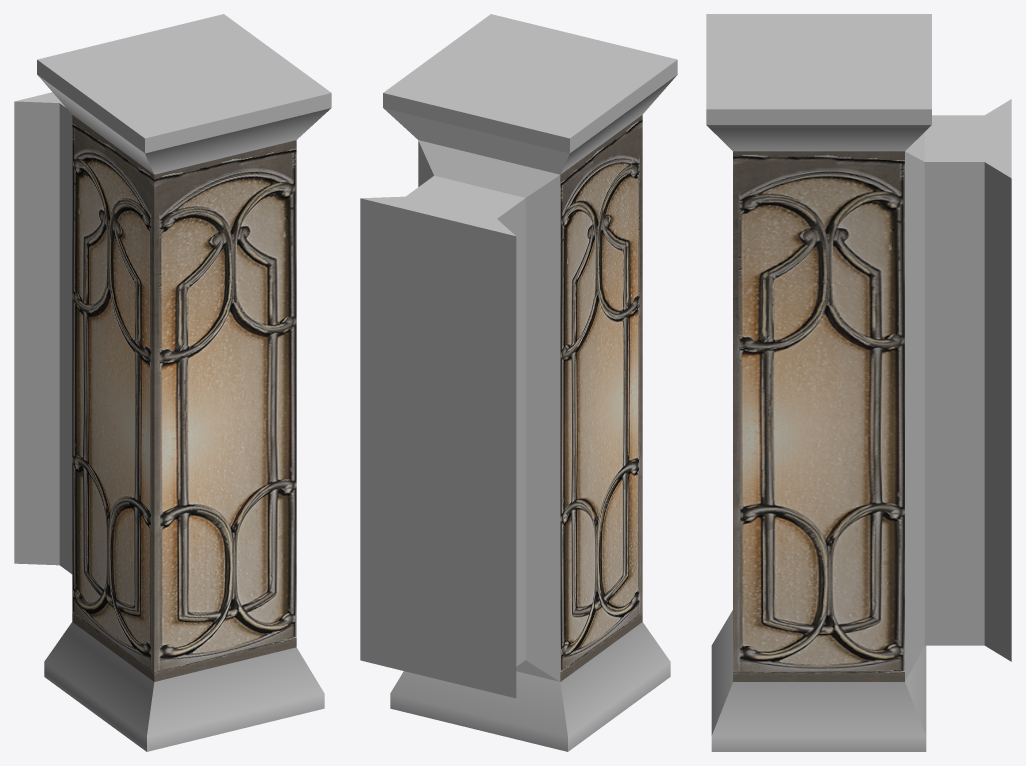
File: wall_lantern_model.fbx
3 renders of one model, left to right at view 1: azimuth 30°, elevation 25°; view 2: azimuth 150°, elevation 25°; view 3: azimuth 270°, elevation 25°, orthographic. The views are drawn at different scales.
Visible parts, largest first — view 1: pCube2; view 2: pCube2; view 3: pCube2.
Part boxes in pixels (x1,y1,x2,y2): pCube2: (14,14,331,751); pCube2: (360,14,677,751); pCube2: (706,14,1011,751).
Bounding box in the file's own units: 0.000337 × 0.00106 × 0.000456.
